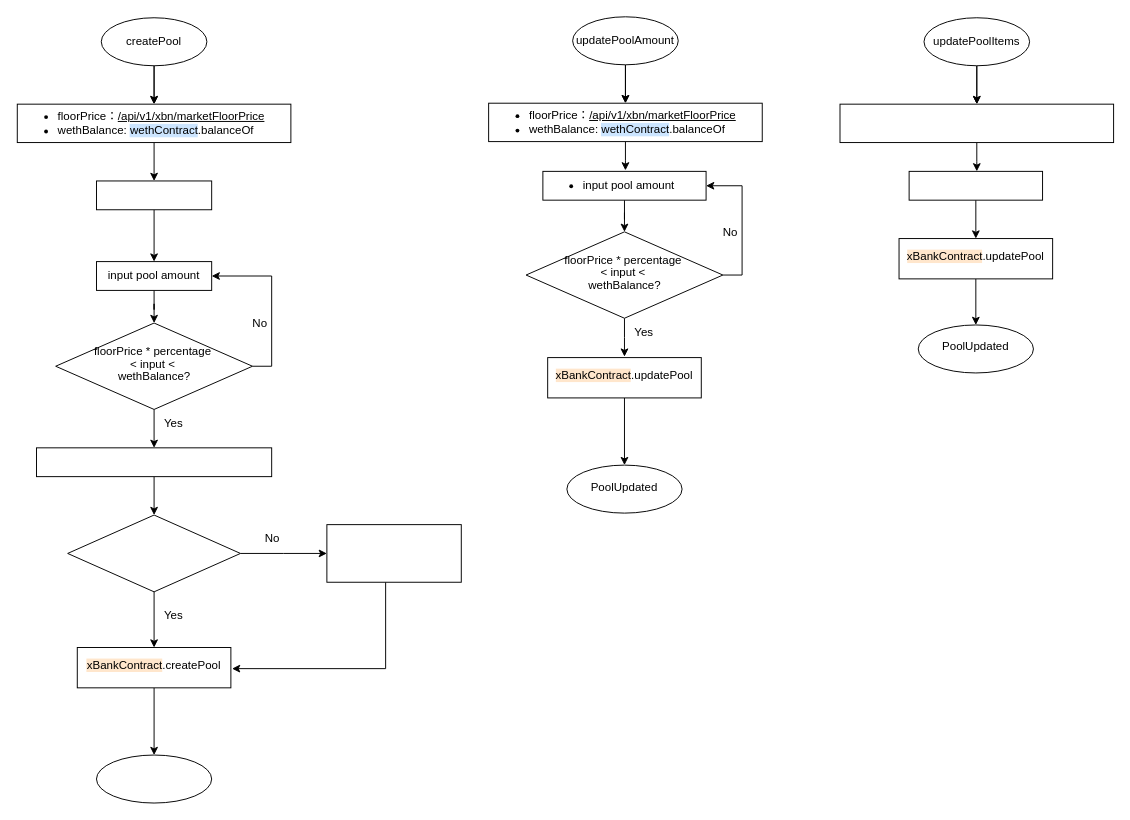
Some shapes in this 1130 by 820 pixel diagram are drawn without their labels. Each missing label, with the centre of its shape:
edit pool terms: point (975, 185)
floorPrice： /api/v1/xbn/marketFloorPrice: point (976, 123)
input pool terms: point (154, 195)
PoolCreated: point (154, 778)
wethAllowance == MAX: point (153, 553)
wethAllowance: wethContract .allowance: point (154, 462)
wethContract .approve: point (393, 553)
